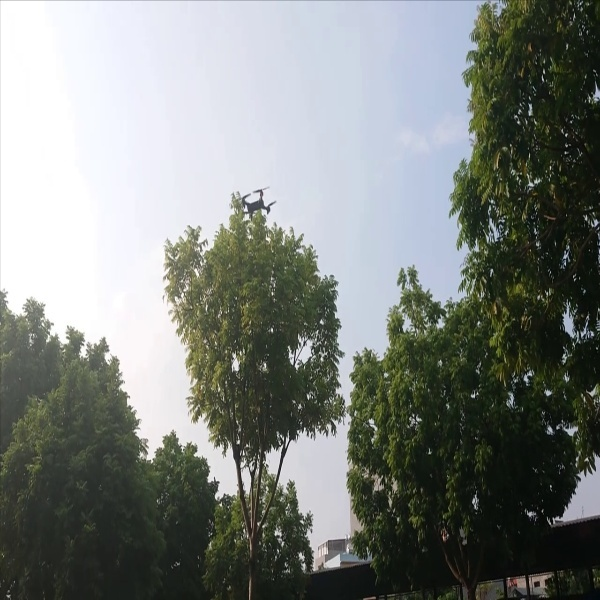drone: (234, 185, 284, 223)
